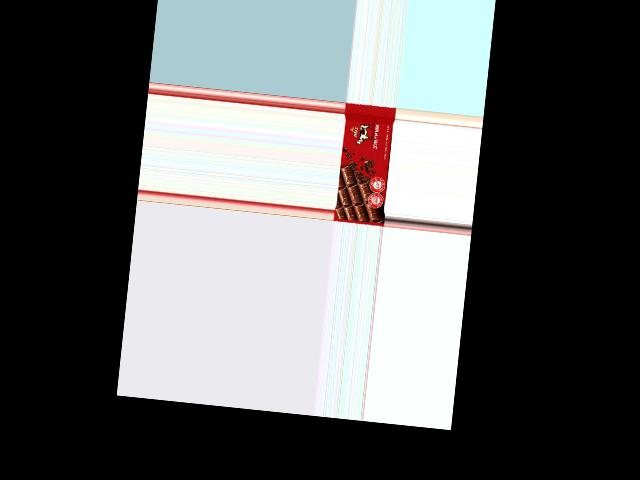chocolate: (334, 102, 396, 225)
